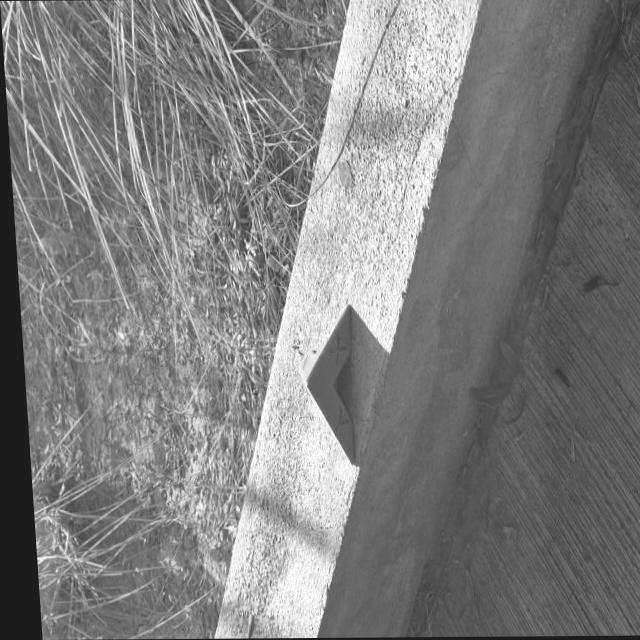eje: (292, 301, 363, 467)
